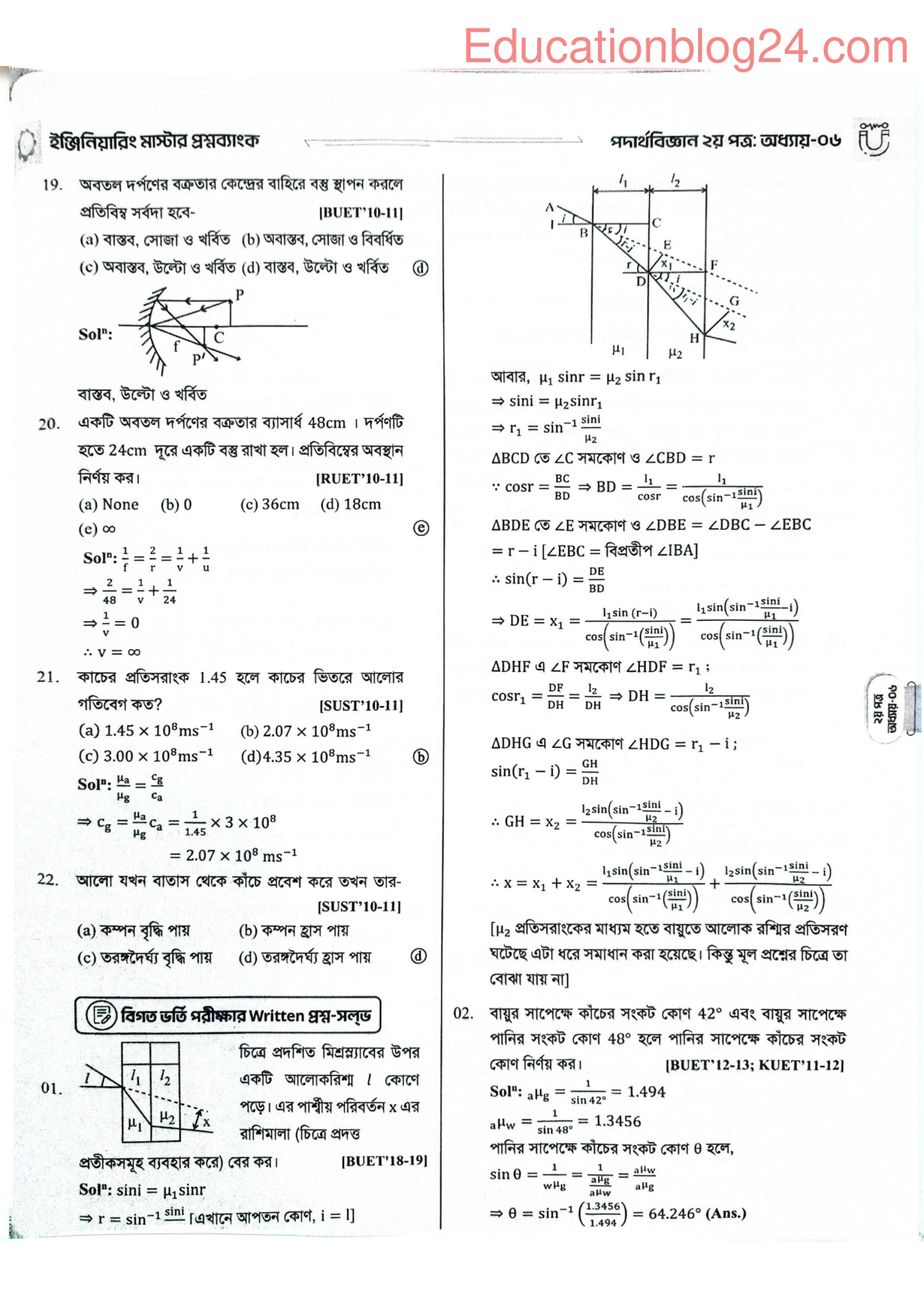question: (28, 1033, 432, 1173), (28, 404, 410, 536), (28, 663, 410, 778), (28, 168, 410, 277), (28, 871, 407, 979), (448, 999, 859, 1081)
